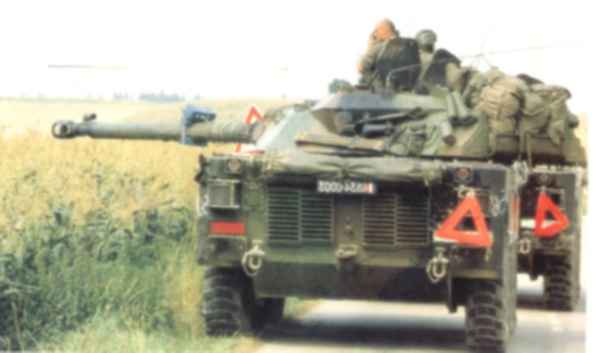license_plate: (317, 178, 373, 195)
